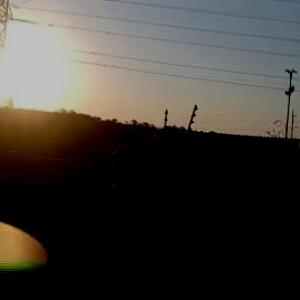follow: (76, 141, 166, 299)
